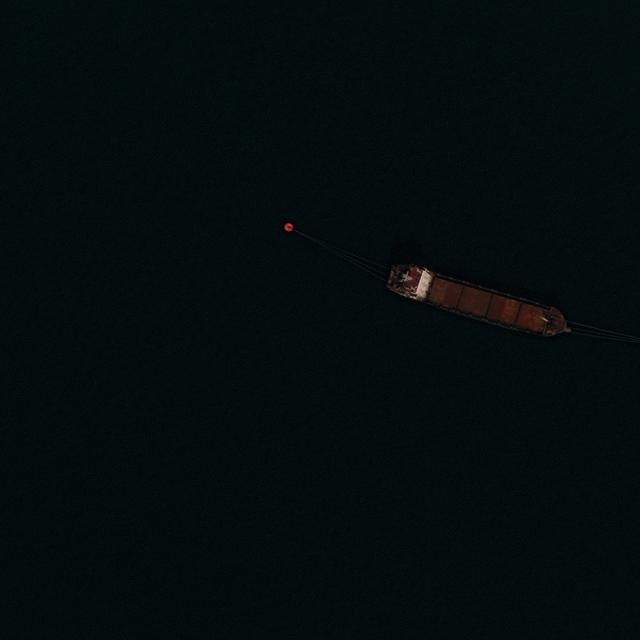Container Ship: (383, 259, 579, 348)
